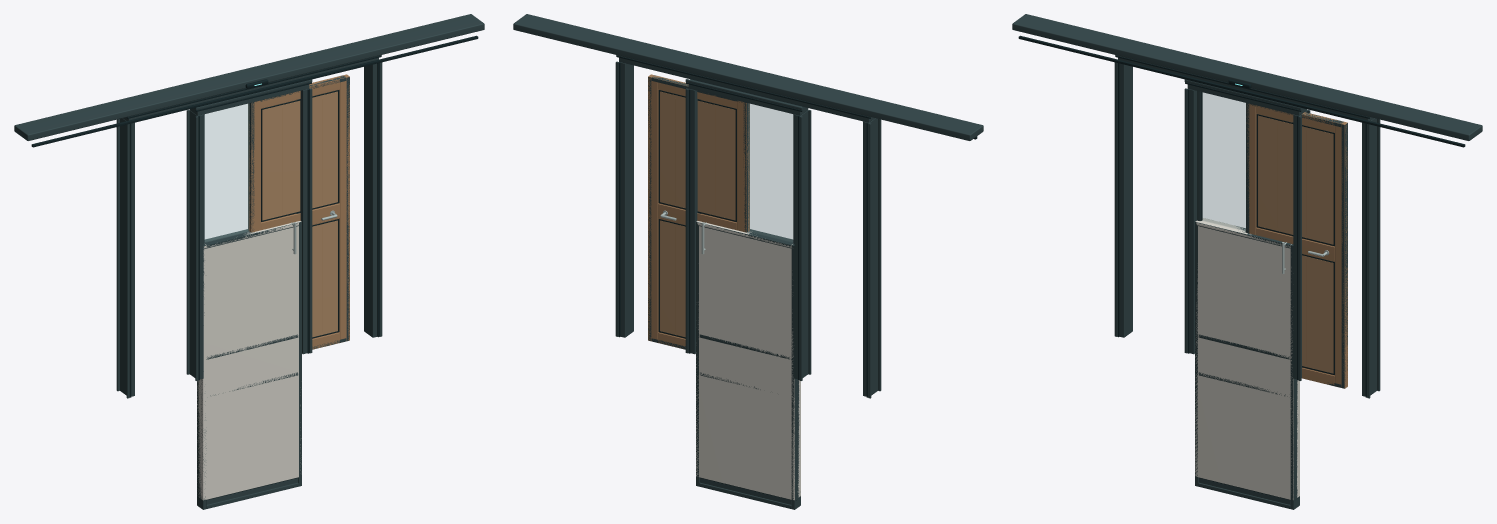
File: interior-architecture.glb
The picture shows the model from 3 angles, left to right: view 1: azimuth 30°, elevation 25°; view 2: azimuth 150°, elevation 25°; view 3: azimuth 330°, elevation 25°; orthographic projection.
Visible parts, largest first — view 1: architecture-solid-wall / Architecture wall paint, architecture-sliding-frame / Architecture powdercoat alumini, architecture-hinged-wood-leaf / Architecture recessed oak pa, architecture-hinged-frame / Architecture powdercoat aluminiu, architecture-hinged-wood-leaf / Architecture warm oak rails, architecture-sliding-leaf / Architecture glazing, architecture-sliding-frame / Architecture EPDM gasket and sh, architecture-glass-panel / Architecture powdercoat aluminium, architecture-hinged-glass-leaf / Architecture powdercoat alu, architecture-hinged-frame / Architecture EPDM gasket and sha, architecture-hinged-wood-leaf / Architecture EPDM gasket and, architecture-glass-transom / Architecture powdercoat alumini; view 2: architecture-solid-wall / Architecture wall paint, architecture-sliding-frame / Architecture powdercoat alumini, architecture-hinged-wood-leaf / Architecture recessed oak pa, architecture-hinged-frame / Architecture powdercoat aluminiu, architecture-hinged-wood-leaf / Architecture warm oak rails, architecture-sliding-leaf / Architecture glazing, architecture-glass-panel / Architecture powdercoat aluminium, architecture-sliding-frame / Architecture EPDM gasket and sh, architecture-hinged-glass-leaf / Architecture powdercoat alu, architecture-hinged-frame / Architecture EPDM gasket and sha, architecture-hinged-wood-leaf / Architecture EPDM gasket and, architecture-glass-transom / Architecture powdercoat alumini; view 3: architecture-solid-wall / Architecture wall paint, architecture-sliding-frame / Architecture powdercoat alumini, architecture-hinged-wood-leaf / Architecture recessed oak pa, architecture-hinged-wood-leaf / Architecture warm oak rails, architecture-hinged-frame / Architecture powdercoat aluminiu, architecture-sliding-leaf / Architecture glazing, architecture-sliding-frame / Architecture EPDM gasket and sh, architecture-glass-panel / Architecture powdercoat aluminium, architecture-hinged-glass-leaf / Architecture powdercoat alu, architecture-hinged-frame / Architecture EPDM gasket and sha, architecture-hinged-wood-leaf / Architecture EPDM gasket and, architecture-glass-transom / Architecture powdercoat alumini (+1 smaller).
Boxes of the visible parts, box(x1,y1,x2,y2) form: architecture-solid-wall / Architecture wall paint: box(197, 221, 301, 500); architecture-sliding-frame / Architecture powdercoat alumini: box(14, 14, 484, 398); architecture-hinged-wood-leaf / Architecture recessed oak pa: box(263, 91, 337, 337); architecture-hinged-frame / Architecture powdercoat aluminiu: box(186, 79, 312, 380); architecture-hinged-wood-leaf / Architecture warm oak rails: box(248, 74, 349, 349); architecture-sliding-leaf / Architecture glazing: box(205, 103, 249, 241); architecture-sliding-frame / Architecture EPDM gasket and sh: box(31, 35, 478, 397); architecture-glass-panel / Architecture powdercoat aluminium: box(197, 222, 301, 509); architecture-hinged-glass-leaf / Architecture powdercoat alu: box(248, 75, 349, 349); architecture-hinged-frame / Architecture EPDM gasket and sha: box(195, 82, 311, 380); architecture-hinged-wood-leaf / Architecture EPDM gasket and: box(261, 90, 339, 338); architecture-glass-transom / Architecture powdercoat alumini: box(206, 334, 301, 395); architecture-solid-wall / Architecture wall paint: box(696, 221, 800, 500); architecture-sliding-frame / Architecture powdercoat alumini: box(513, 14, 983, 398); architecture-hinged-wood-leaf / Architecture recessed oak pa: box(660, 91, 734, 337); architecture-hinged-frame / Architecture powdercoat aluminiu: box(685, 79, 811, 380); architecture-hinged-wood-leaf / Architecture warm oak rails: box(648, 74, 749, 349); architecture-sliding-leaf / Architecture glazing: box(748, 103, 792, 241); architecture-glass-panel / Architecture powdercoat aluminium: box(696, 222, 800, 509); architecture-sliding-frame / Architecture EPDM gasket and sh: box(616, 55, 977, 397); architecture-hinged-glass-leaf / Architecture powdercoat alu: box(648, 75, 749, 349); architecture-hinged-frame / Architecture EPDM gasket and sha: box(686, 82, 802, 380); architecture-hinged-wood-leaf / Architecture EPDM gasket and: box(658, 90, 736, 338); architecture-glass-transom / Architecture powdercoat alumini: box(696, 334, 795, 398); architecture-solid-wall / Architecture wall paint: box(1195, 218, 1299, 499); architecture-sliding-frame / Architecture powdercoat alumini: box(1012, 14, 1482, 398); architecture-hinged-wood-leaf / Architecture recessed oak pa: box(1258, 115, 1332, 373); architecture-hinged-wood-leaf / Architecture warm oak rails: box(1246, 103, 1347, 388); architecture-hinged-frame / Architecture powdercoat aluminiu: box(1184, 79, 1310, 380); architecture-sliding-leaf / Architecture glazing: box(1202, 92, 1245, 230); architecture-sliding-frame / Architecture EPDM gasket and sh: box(1018, 35, 1465, 397); architecture-glass-panel / Architecture powdercoat aluminium: box(1195, 222, 1299, 509); architecture-hinged-glass-leaf / Architecture powdercoat alu: box(1246, 103, 1347, 388); architecture-hinged-frame / Architecture EPDM gasket and sha: box(1185, 82, 1301, 380); architecture-hinged-wood-leaf / Architecture EPDM gasket and: box(1256, 114, 1334, 374); architecture-glass-transom / Architecture powdercoat alumini: box(1195, 334, 1294, 397).
Bounding box in the file's own units: 4.62 × 4.07 × 0.273.
